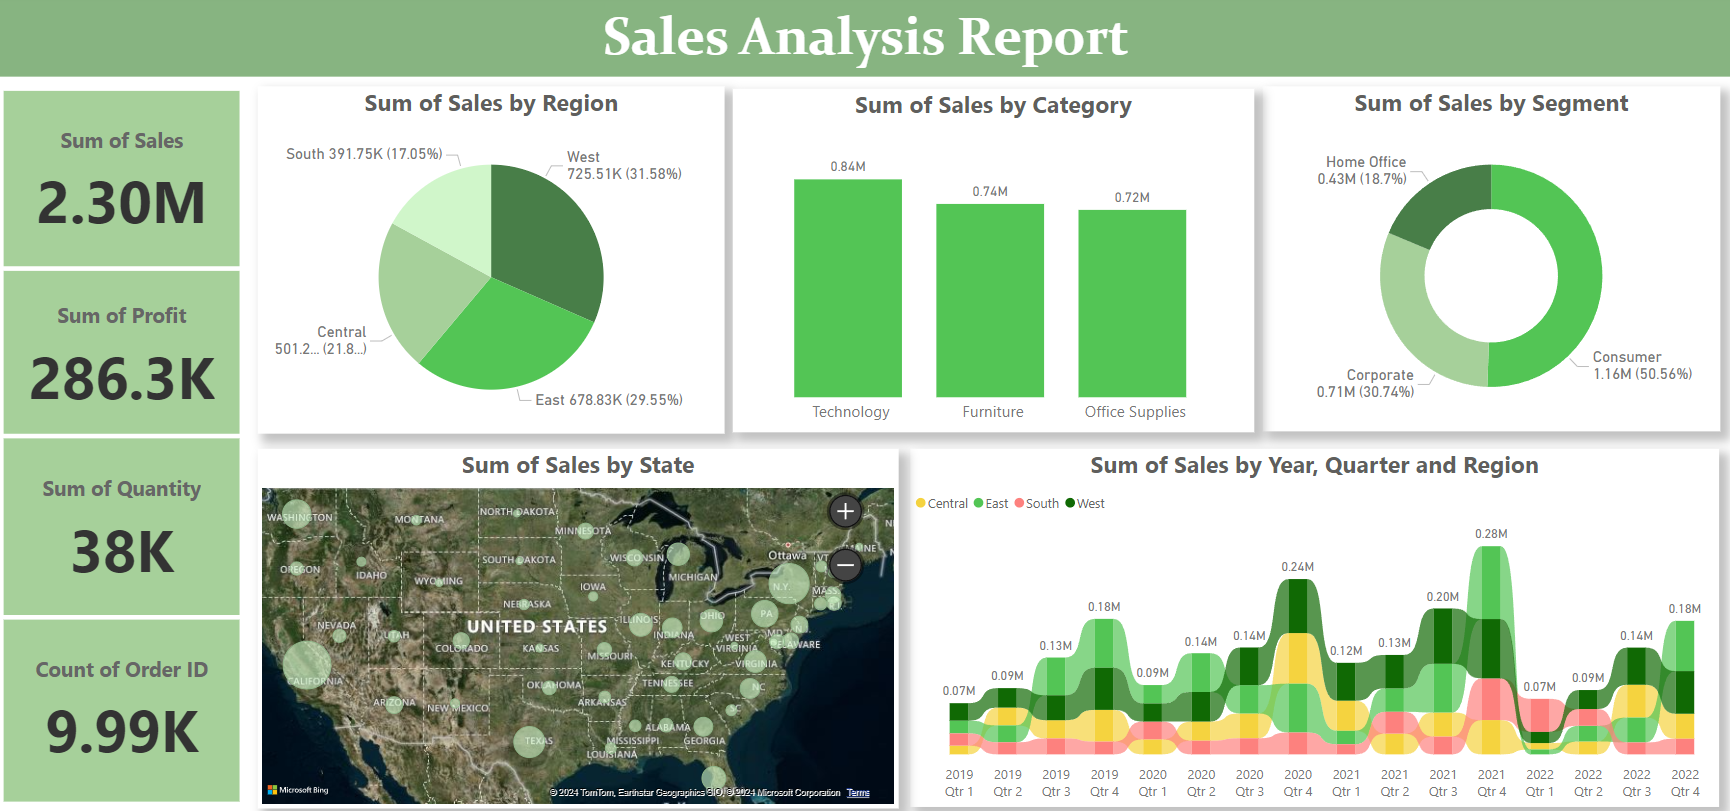

This screenshot's page, from the dashboard's own definition file:
{"tool":"powerbi","page":{"name":"Page 1","canvas":[1800,850],"ordinal":0},"visuals":[{"type":"pieChart","fields":{"Y":["Sum(Monthly Sales Data.Sales)"],"Category":["Monthly Sales Data.Region"]},"box":[268.5,95.3,485.1,360.9],"z":0},{"type":"donutChart","fields":{"Category":["Monthly Sales Data.Segment"],"Y":["Sum(Monthly Sales Data.Sales)"]},"box":[1312.3,95.3,475,358],"z":1000},{"type":"columnChart","fields":{"Y":["Sum(Monthly Sales Data.Sales)"],"Category":["Monthly Sales Data.Category"]},"box":[762.4,96.7,541.4,356.6],"z":2000},{"type":"ribbonChart","fields":{"Y":["Sum(Monthly Sales Data.Sales)"],"Series":["Monthly Sales Data.Region"],"Category":["Monthly Sales Data.Order Date.Variation.Date Hierarchy.Year","Monthly Sales Data.Order Date.Variation.Date Hierarchy.Quarter","Monthly Sales Data.Order Date.Variation.Date Hierarchy.Month"]},"box":[946.9,470.7,840.2,372.3],"z":3000},{"type":"map","fields":{"Category":["Monthly Sales Data.State"],"Size":["Sum(Monthly Sales Data.Sales)"]},"box":[268.5,470.6,665.5,373.9],"z":4000},{"type":"cardVisual","fields":{"Data":["Sum(Monthly Sales Data.Sales)"]},"box":[0,95.3,255.5,199.2],"z":5000},{"type":"cardVisual","fields":{"Data":["Sum(Monthly Sales Data.Profit)"]},"box":[0,281.7,255.7,189.7],"z":6000},{"type":"cardVisual","fields":{"Data":["Sum(Monthly Sales Data.Quantity)"]},"box":[0,456.2,255.5,200.7],"z":7000},{"type":"cardVisual","fields":{"Data":["CountNonNull(Monthly Sales Data.Order ID)"]},"box":[0,643.9,255.5,199.2],"z":8000},{"type":"actionButton","box":[0,0,1800.3,85.2],"z":9000}]}

Visuals, with their boxes in screenshot pixels (x1, y1, x2, y2), scaled from the page's 1800x850 canvas onto the 1730x811 screenshot:
pieChart - Sum(Monthly Sales Data.Sales) x Monthly Sales Data.Region: {"x1": 258, "y1": 91, "x2": 724, "y2": 435}
donutChart - Monthly Sales Data.Segment x Sum(Monthly Sales Data.Sales): {"x1": 1261, "y1": 91, "x2": 1718, "y2": 433}
columnChart - Sum(Monthly Sales Data.Sales) x Monthly Sales Data.Category: {"x1": 733, "y1": 92, "x2": 1253, "y2": 433}
ribbonChart - Sum(Monthly Sales Data.Sales) x Monthly Sales Data.Region: {"x1": 910, "y1": 449, "x2": 1718, "y2": 804}
map - Monthly Sales Data.State x Sum(Monthly Sales Data.Sales): {"x1": 258, "y1": 449, "x2": 898, "y2": 806}
cardVisual - Sum(Monthly Sales Data.Sales): {"x1": 0, "y1": 91, "x2": 246, "y2": 281}
cardVisual - Sum(Monthly Sales Data.Profit): {"x1": 0, "y1": 269, "x2": 246, "y2": 450}
cardVisual - Sum(Monthly Sales Data.Quantity): {"x1": 0, "y1": 435, "x2": 246, "y2": 627}
cardVisual - CountNonNull(Monthly Sales Data.Order ID): {"x1": 0, "y1": 614, "x2": 246, "y2": 804}
actionButton: {"x1": 0, "y1": 0, "x2": 1729, "y2": 81}
